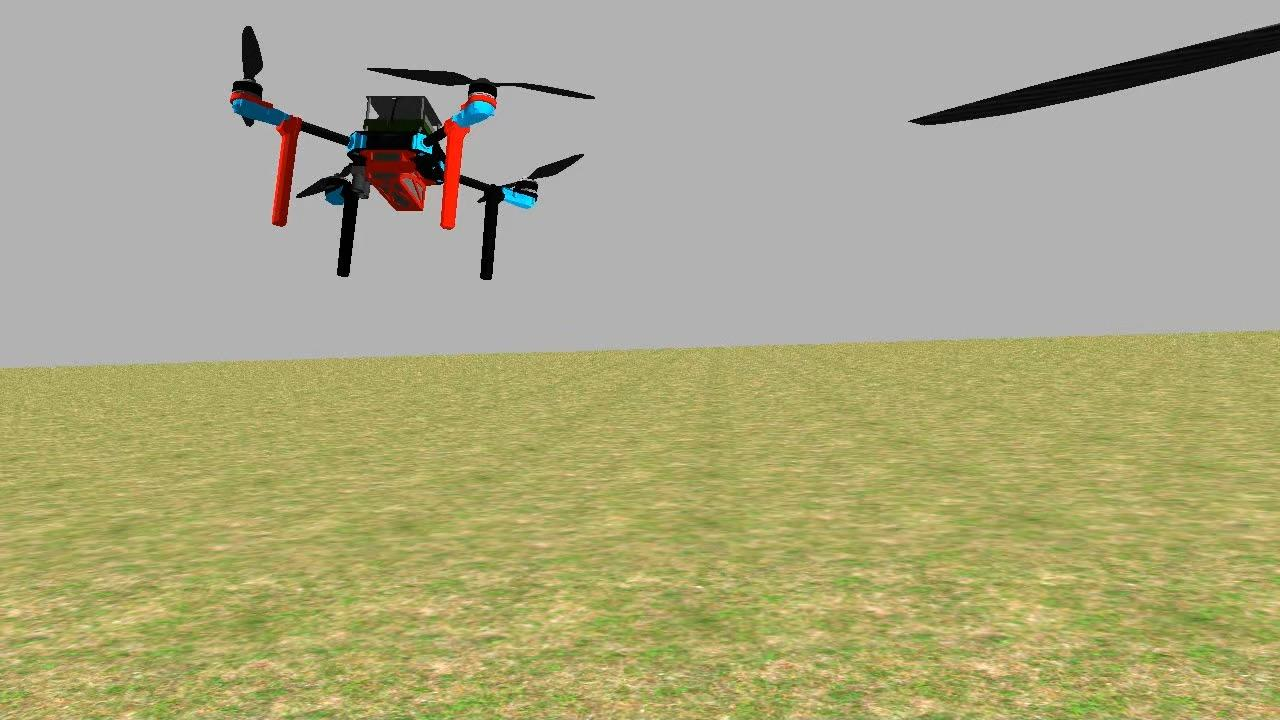UAV: (216, 54, 560, 276)
